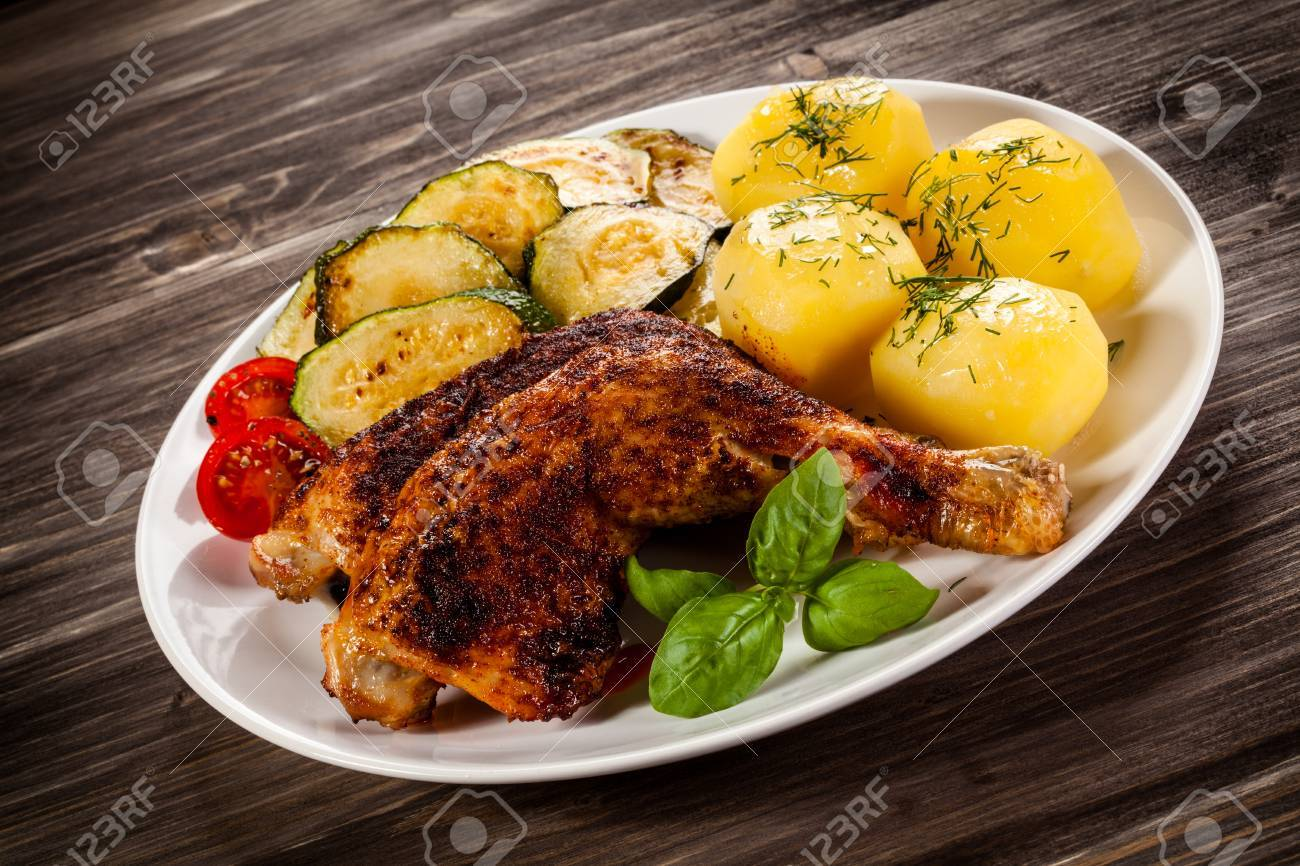boiled potatoes: (895, 114, 1136, 296), (707, 198, 932, 360), (883, 290, 1097, 436), (715, 79, 915, 204)
chopped lettuce: (644, 474, 896, 699)
